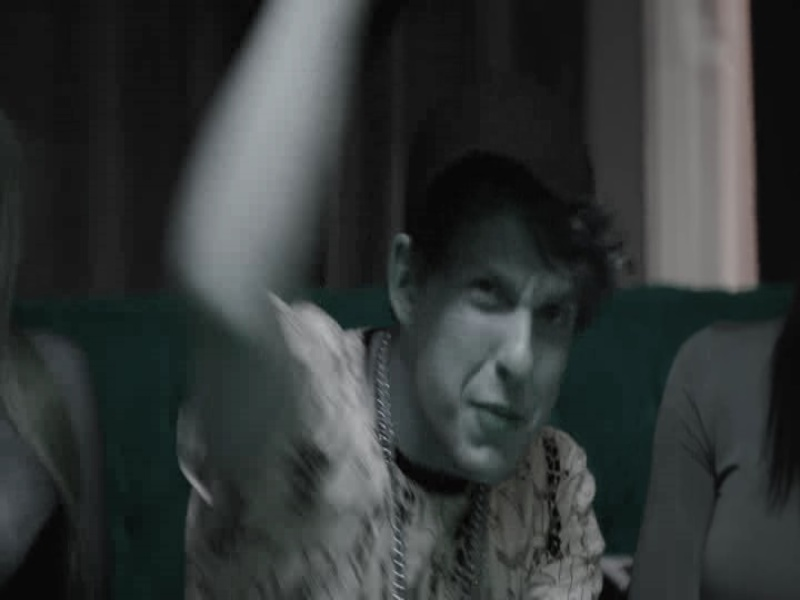TsisyArotava: (386, 97, 600, 493)
